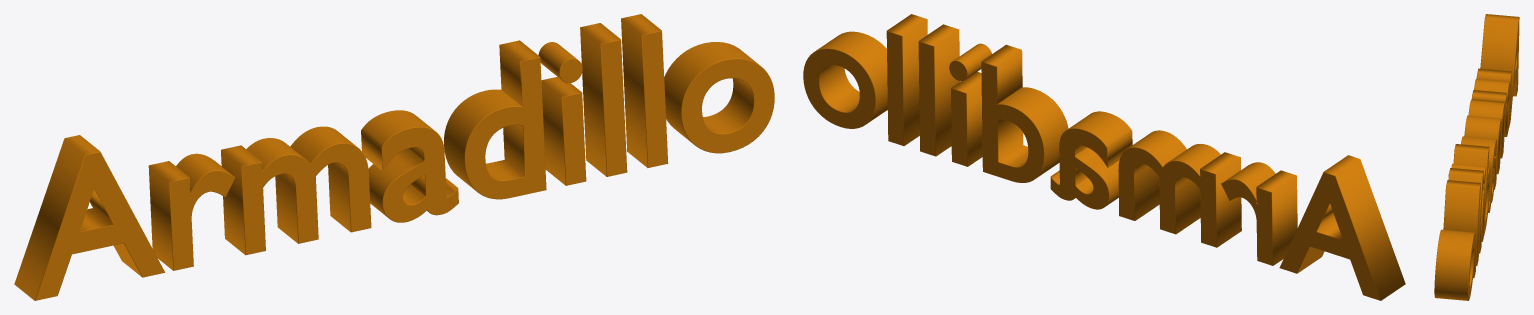
Rendered from Armadillo.fbx.
3 views of the same model, side by side, from view 1: azimuth 30°, elevation 25°; view 2: azimuth 150°, elevation 25°; view 3: azimuth 270°, elevation 25° (orthographic). The views are drawn at different scales.
Parts seen in each view (by area): view 1: Text; view 2: Text; view 3: Text.
Part boxes in pixels (x1,y1,x2,y2): Text: (14, 14, 774, 300); Text: (803, 14, 1405, 300); Text: (1434, 14, 1519, 300).
Size of the model in its own units: 997 by 198 by 154.
